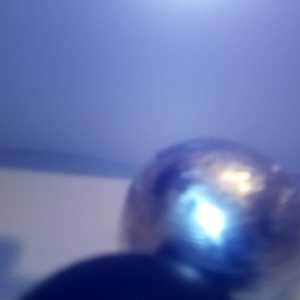alive_ball: (122, 139, 300, 300)
dead_ball: (15, 253, 233, 300)
